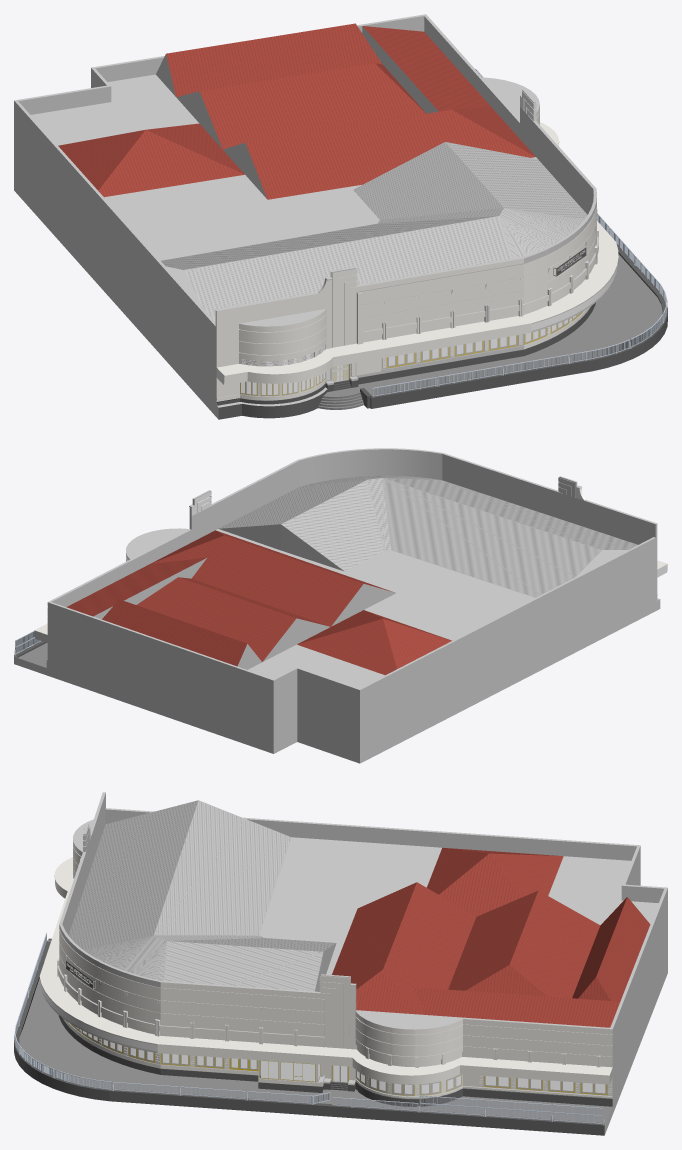
File: museum_kaa_bandung_by_aziz_a.glb
The picture shows the model from 3 angles, top to bottom: view 1: azimuth 30°, elevation 25°; view 2: azimuth 150°, elevation 25°; view 3: azimuth 270°, elevation 25°; orthographic projection. The views are drawn at different scales.
Parts seen in each view (by area): view 1: Material2 (×8), Material3 (×4); view 2: Material2 (×2), Material3; view 3: Material2 (×7), Material3 (×4).
Boxes of the visible parts, x1,y1,x2,y2 form: Material2 (×8): (14,14,667,419); Material3 (×4): (161,69,667,409); Material2 (×2): (14,448,660,763); Material3: (219,475,637,597); Material2 (×7): (14,792,667,1135); Material3 (×4): (14,800,612,1124).
Size of the model in its own units: 2167 by 494 by 2459.
16 materials, 3 textured.
